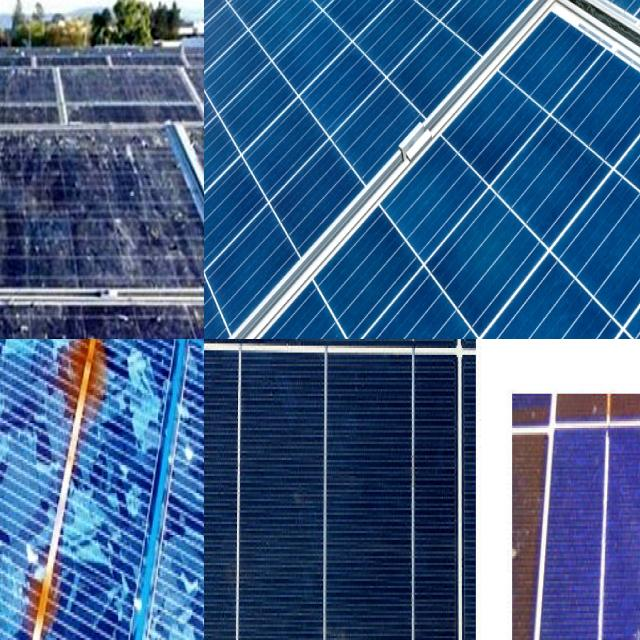bird: (104, 136, 162, 188), (0, 125, 51, 178), (0, 140, 53, 175), (0, 193, 27, 259), (0, 115, 20, 179)
crack: (204, 0, 640, 339)
shadow: (509, 399, 550, 640), (22, 507, 72, 640), (53, 339, 122, 425), (0, 391, 28, 544), (557, 393, 640, 440)
